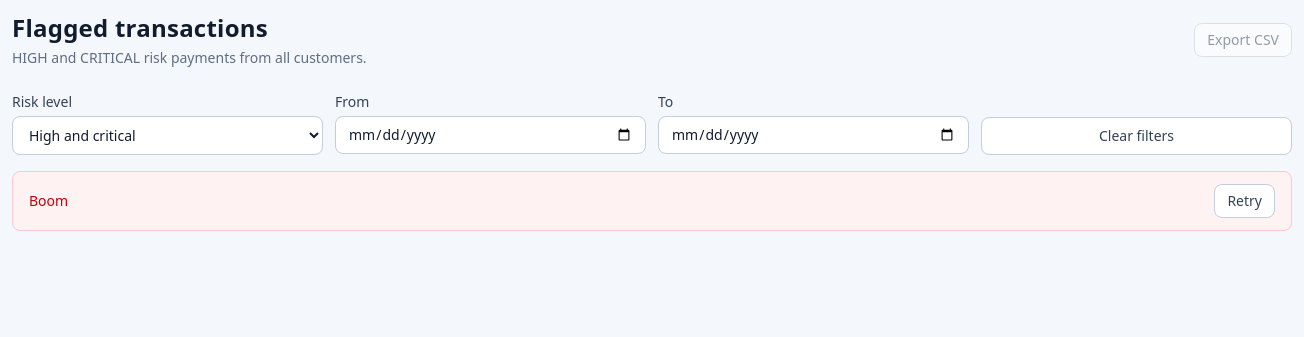
FlaggedTransactions › shows an error with Retry instead of the empty state
The image size is (1304, 337).
Expected: the message shows "Boom", [29,191,68,210]
Click the button "Retry" at {"x": 1245, "y": 201}, box [1214,184,1275,218]
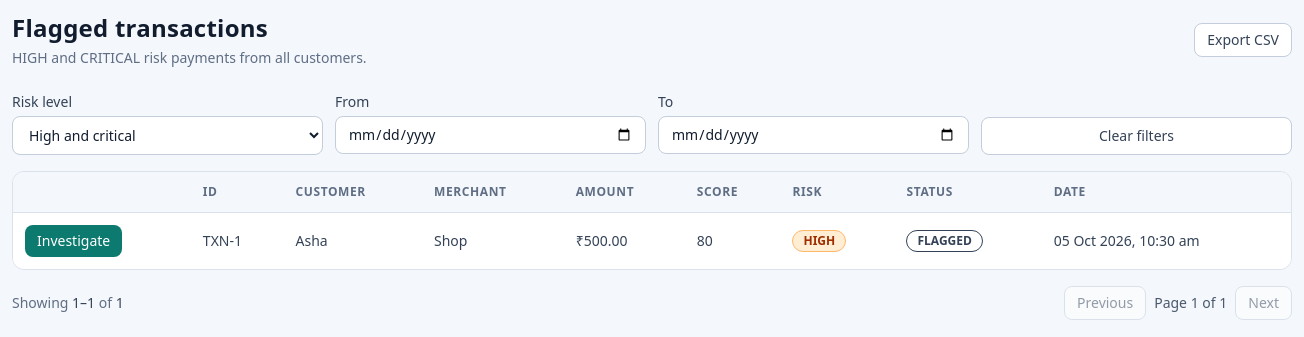
Expected: the text "TXN-1" is shown, [191,212,284,269]
